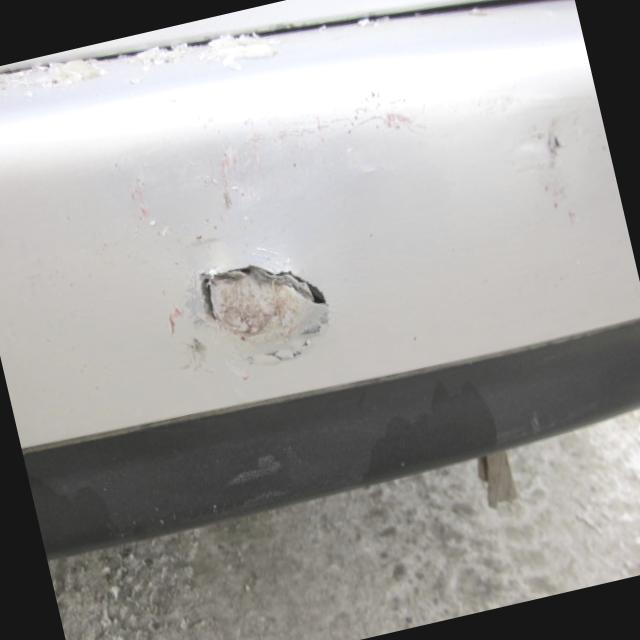Dechirure: (188, 242, 329, 336)
Rayure: (204, 109, 343, 218), (207, 285, 300, 357), (342, 99, 429, 144), (121, 179, 168, 240), (152, 293, 195, 347)
